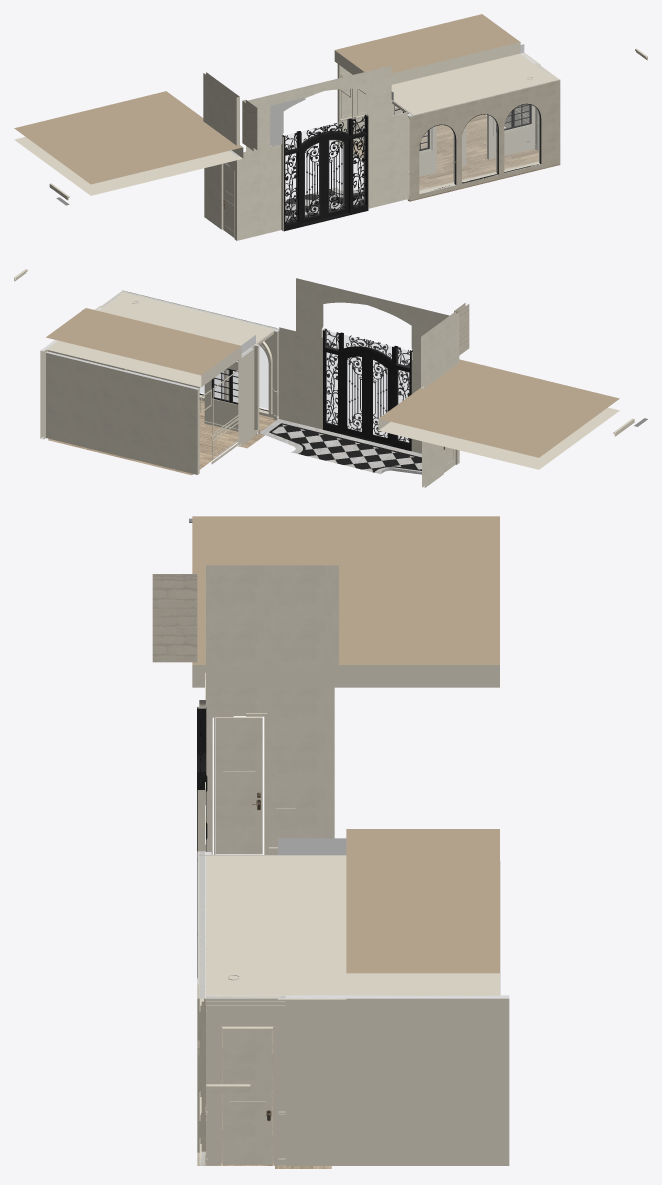
File: office-hall-4d9480ddfc15.glb
3 renders of one model, top to bottom at view 1: azimuth 30°, elevation 25°; view 2: azimuth 150°, elevation 25°; view 3: azimuth 270°, elevation 25°, orthographic. The views are drawn at different scales.
Parts seen in each view (by area): view 1: office-hall-look-2575515a05775d9e, office-hall-look-d5a4a1b5d3594c04, office-hall-c9e78b9ec1bb39cd, office-hall-dbd60ee5c3733ed6, office-hall-look-34525a54e63b733b, office-hall-look-bce662e26d5a5947, office-hall-38561c12898e4d43, office-hall-c02a36d0521470a9, office-hall-5cbcc744e6f960f3, office-hall-look-dbd60ee5c3733ed6, office-hall-look-746250f96522f643, office-hall-c374268555806af8 (+19 smaller); view 2: office-hall-look-2575515a05775d9e, office-hall-look-19647d6da46c2b80, office-hall-look-d5a4a1b5d3594c04, office-hall-dbd60ee5c3733ed6, office-hall-look-34525a54e63b733b, office-hall-look-e388ad8855329420, office-hall-look-3231f73bae020736, office-hall-look-bce662e26d5a5947, office-hall-look-746250f96522f643, office-hall-look-b3086b8cd368d7da, office-hall-look-26f615ec640e02ab, office-hall-look-6a051330000fbca1 (+19 smaller); view 3: office-hall-look-2575515a05775d9e, office-hall-look-6a1144f4e43410bb, office-hall-look-746250f96522f643, office-hall-look-85f0fd939e0fcc78, office-hall-dbd60ee5c3733ed6, office-hall-look-dbd60ee5c3733ed6, office-hall-cf6d22c5317ced0b, office-hall-look-3322bc58bedf5620, office-hall-68d06b361ac47823, office-hall-look-5e296beffb47d853, office-hall-c9e78b9ec1bb39cd, office-hall-look-bce662e26d5a5947.
Part boxes in pixels (x1,y1,x2,y2): office-hall-look-2575515a05775d9e: [14, 14, 520, 195]; office-hall-look-d5a4a1b5d3594c04: [236, 112, 407, 240]; office-hall-c9e78b9ec1bb39cd: [407, 82, 545, 200]; office-hall-dbd60ee5c3733ed6: [392, 63, 559, 115]; office-hall-look-34525a54e63b733b: [246, 65, 391, 151]; office-hall-look-bce662e26d5a5947: [282, 114, 368, 231]; office-hall-38561c12898e4d43: [419, 125, 454, 191]; office-hall-c02a36d0521470a9: [462, 115, 497, 180]; office-hall-5cbcc744e6f960f3: [504, 104, 539, 170]; office-hall-look-dbd60ee5c3733ed6: [391, 44, 540, 100]; office-hall-look-746250f96522f643: [203, 72, 239, 145]; office-hall-c374268555806af8: [407, 148, 560, 201]; office-hall-look-2575515a05775d9e: [46, 308, 619, 469]; office-hall-look-19647d6da46c2b80: [46, 351, 199, 474]; office-hall-look-d5a4a1b5d3594c04: [279, 327, 459, 462]; office-hall-dbd60ee5c3733ed6: [99, 290, 276, 346]; office-hall-look-34525a54e63b733b: [296, 278, 449, 361]; office-hall-look-e388ad8855329420: [272, 424, 421, 471]; office-hall-look-3231f73bae020736: [341, 351, 367, 438]; office-hall-look-bce662e26d5a5947: [323, 328, 412, 451]; office-hall-look-746250f96522f643: [421, 311, 459, 388]; office-hall-look-b3086b8cd368d7da: [325, 331, 409, 442]; office-hall-look-26f615ec640e02ab: [367, 352, 393, 445]; office-hall-look-6a051330000fbca1: [238, 347, 253, 445]; office-hall-look-2575515a05775d9e: [192, 516, 499, 995]; office-hall-look-6a1144f4e43410bb: [285, 995, 509, 1165]; office-hall-look-746250f96522f643: [206, 565, 338, 664]; office-hall-look-85f0fd939e0fcc78: [206, 687, 334, 854]; office-hall-dbd60ee5c3733ed6: [198, 855, 292, 998]; office-hall-look-dbd60ee5c3733ed6: [278, 838, 346, 999]; office-hall-cf6d22c5317ced0b: [222, 1028, 272, 1164]; office-hall-look-3322bc58bedf5620: [215, 716, 262, 854]; office-hall-68d06b361ac47823: [206, 995, 285, 1165]; office-hall-look-5e296beffb47d853: [152, 574, 197, 662]; office-hall-c9e78b9ec1bb39cd: [197, 851, 205, 1151]; office-hall-look-bce662e26d5a5947: [197, 707, 206, 977].
Bounding box in the file's own units: 21.96 × 5.17 × 5.78.
29 materials, 7 textured.
